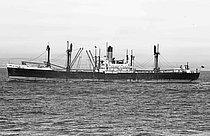Ship: (5, 36, 206, 93)
